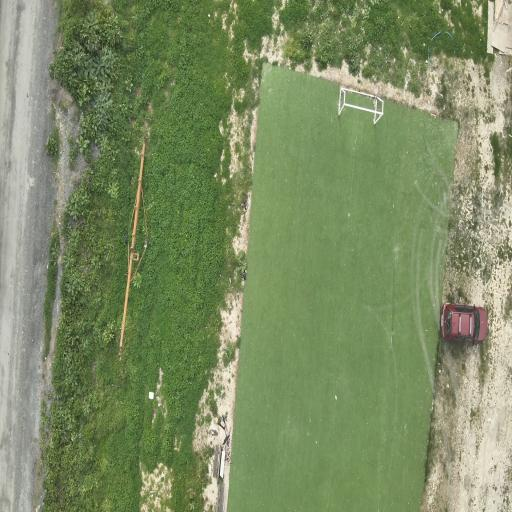car: (442, 303, 487, 341)
